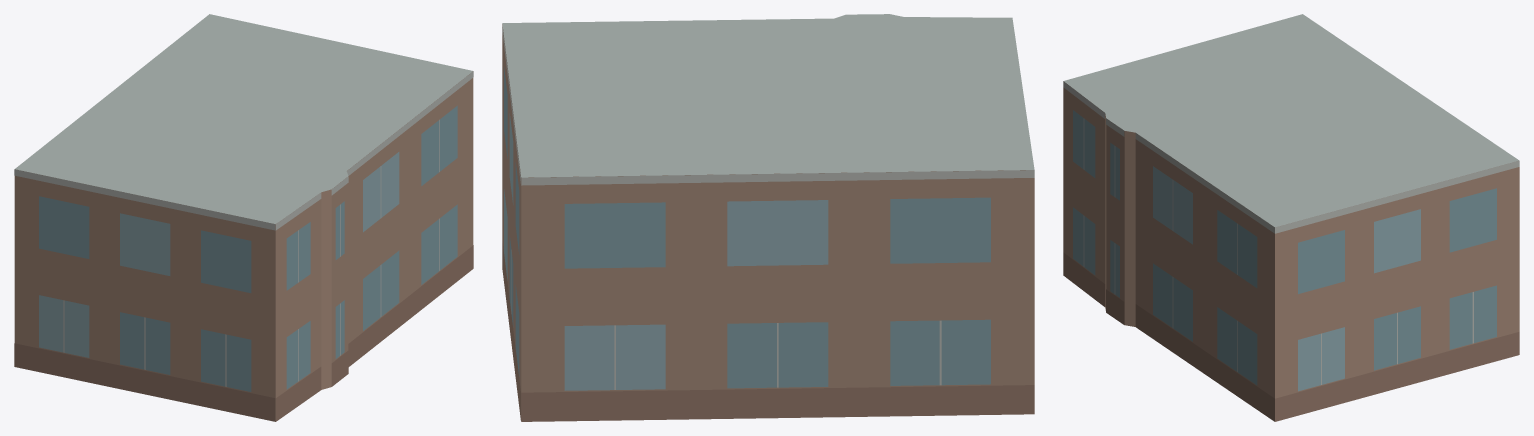
File: survey-upis-32625122.glb
3 renders of one model, left to right at view 1: azimuth 30°, elevation 25°; view 2: azimuth 150°, elevation 25°; view 3: azimuth 270°, elevation 25°, orthographic. The views are drawn at different scales.
Visible parts, largest first — view 1: survey-upis-32625122.tmp; view 2: survey-upis-32625122.tmp; view 3: survey-upis-32625122.tmp.
Boxes of the visible parts, left/top/right/bottom form: survey-upis-32625122.tmp: left=14, top=14, right=473, bottom=421; survey-upis-32625122.tmp: left=502, top=14, right=1034, bottom=421; survey-upis-32625122.tmp: left=1063, top=14, right=1519, bottom=421.
Size of the model in its own units: 17.67 by 7.5 by 15.96.
